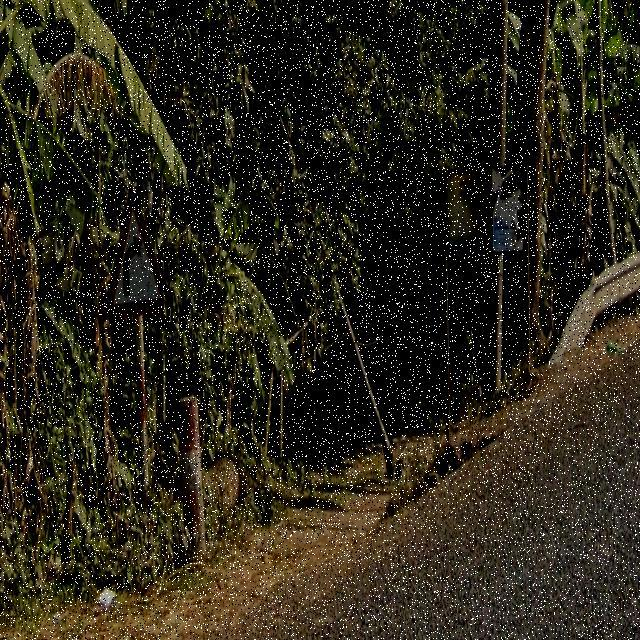Right-turn: (92, 209, 170, 316)
